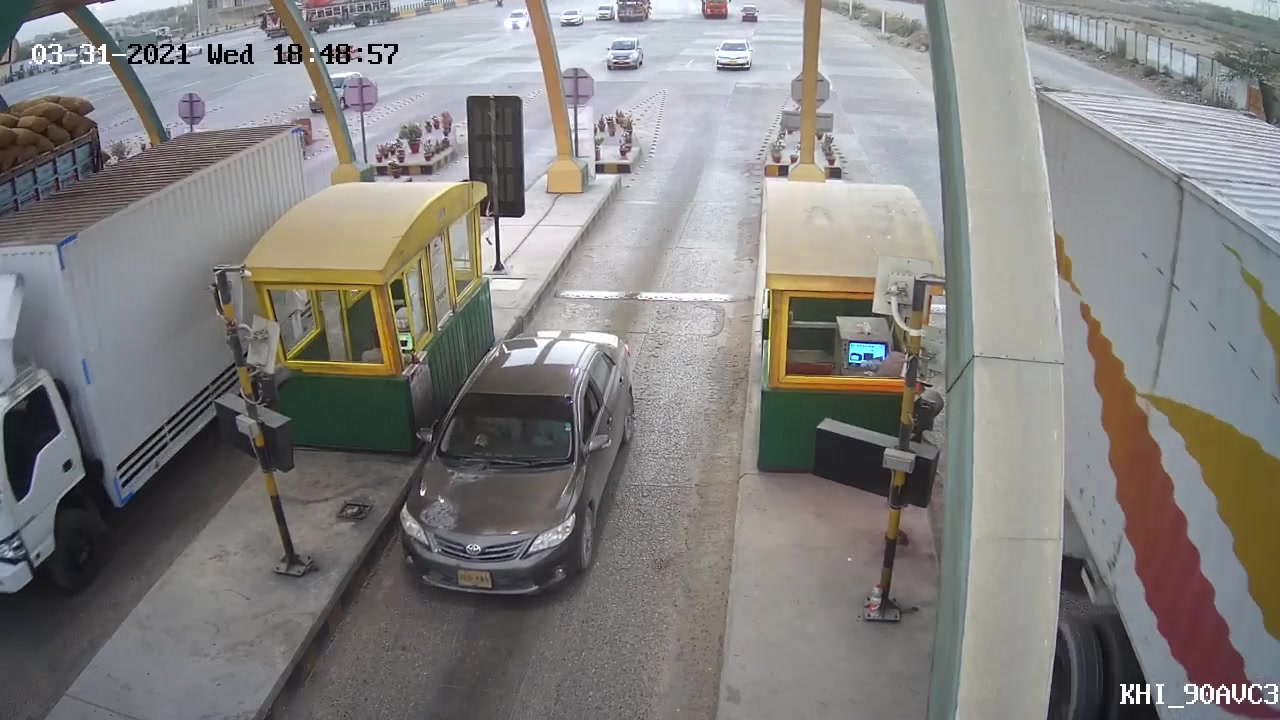F1: (384, 326, 638, 604)
